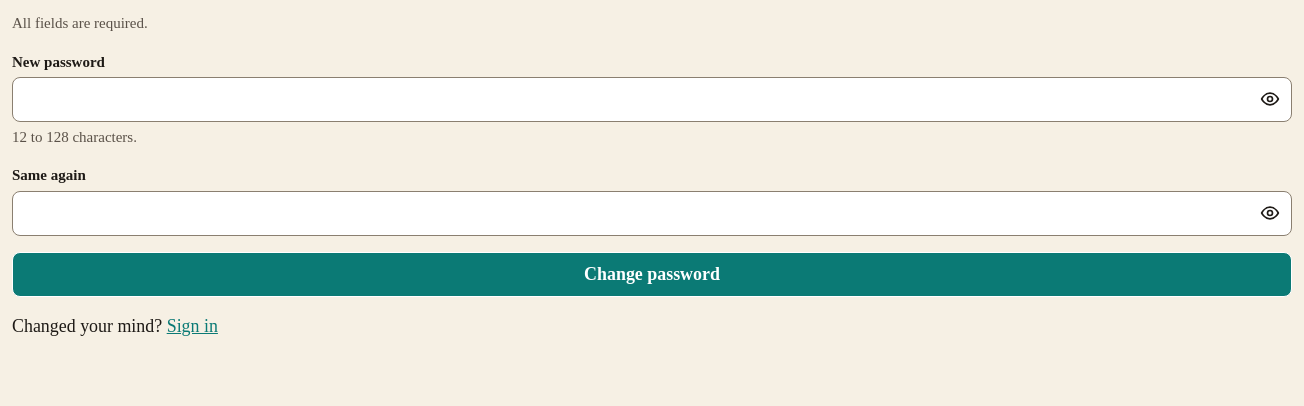
Test case: ResetPasswordForm › shows field errors under New password and Same again, and keeps the token
Type "not-a-real-password" into the password field labelled "New password". click: (652,99)
box: [12,77,1292,122]
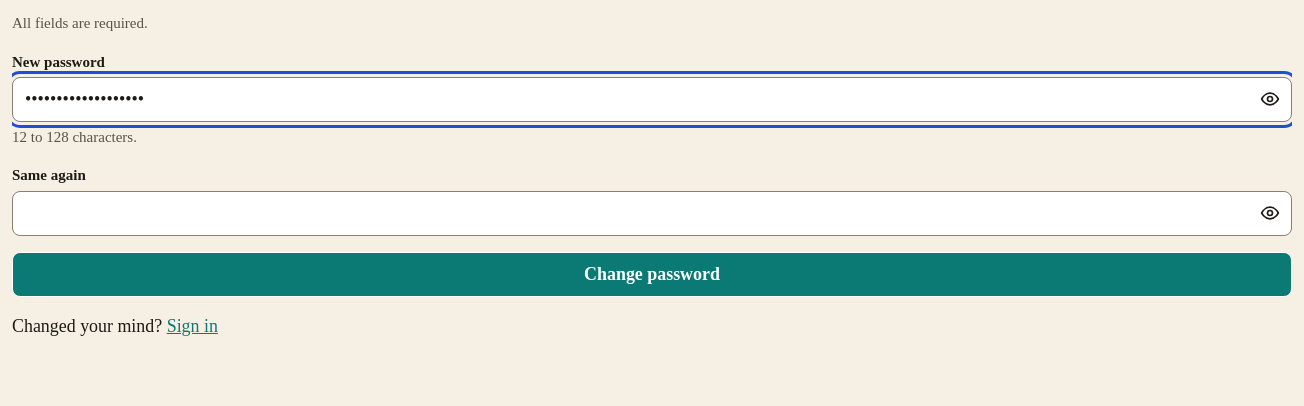
Type "not-a-real-password" into the password field labelled "Same again". click: (652,213)
box: [12,191,1292,236]
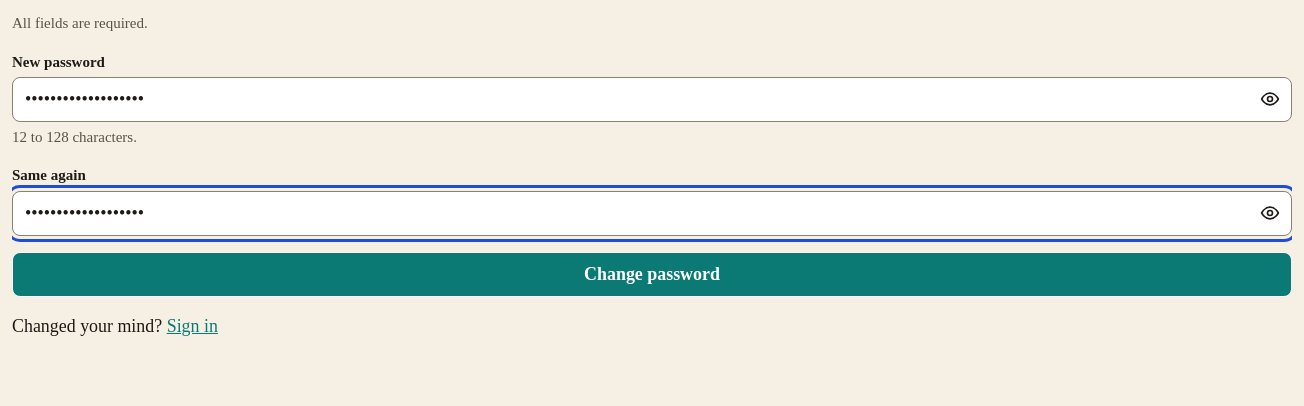
Click the button "Change password". click: (652,274)
box: [12,252,1292,297]
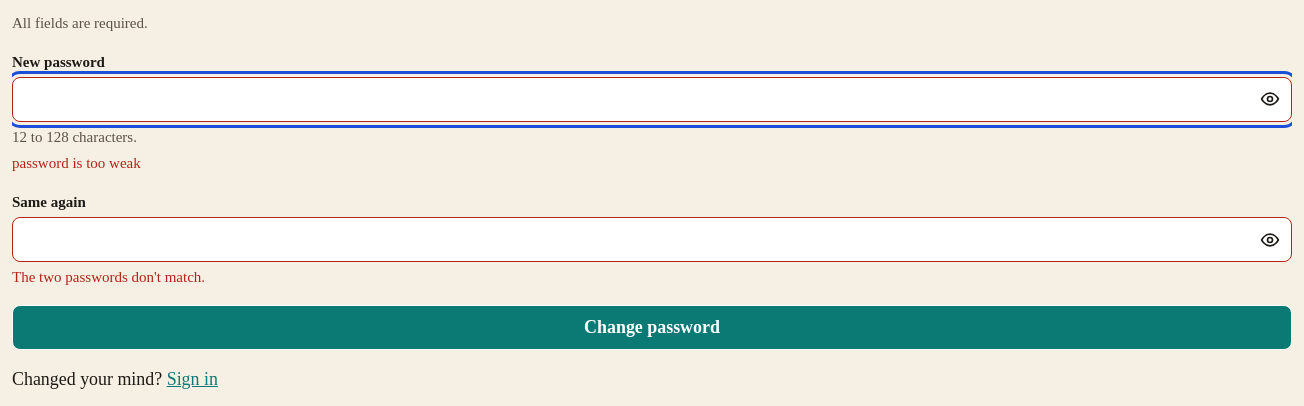
Expected: the text "password is too weak" is shown, [12,155,141,171]
Expected: the text "The two passwords don't match." is shown, [12,269,205,285]
